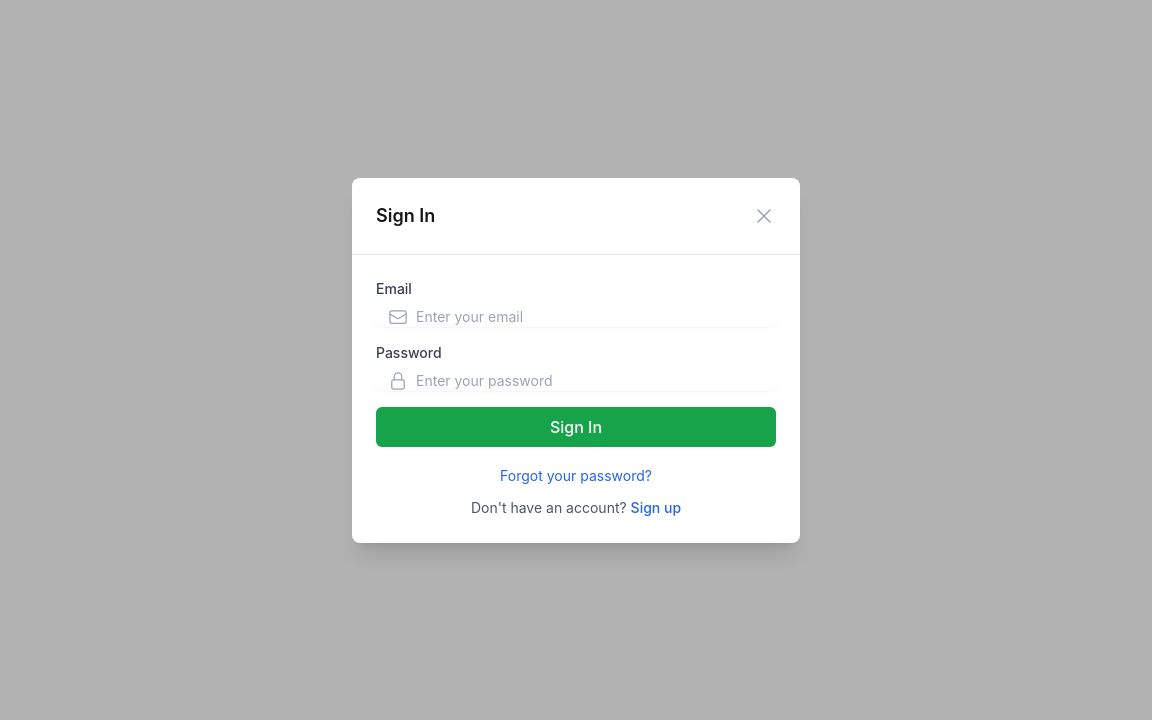
Test: AuthModal › switches to reset password mode
The image size is (1152, 720).
Click the button "Forgot your password?". click: (576, 476)
box: x1=500 y1=466 x2=652 y2=486
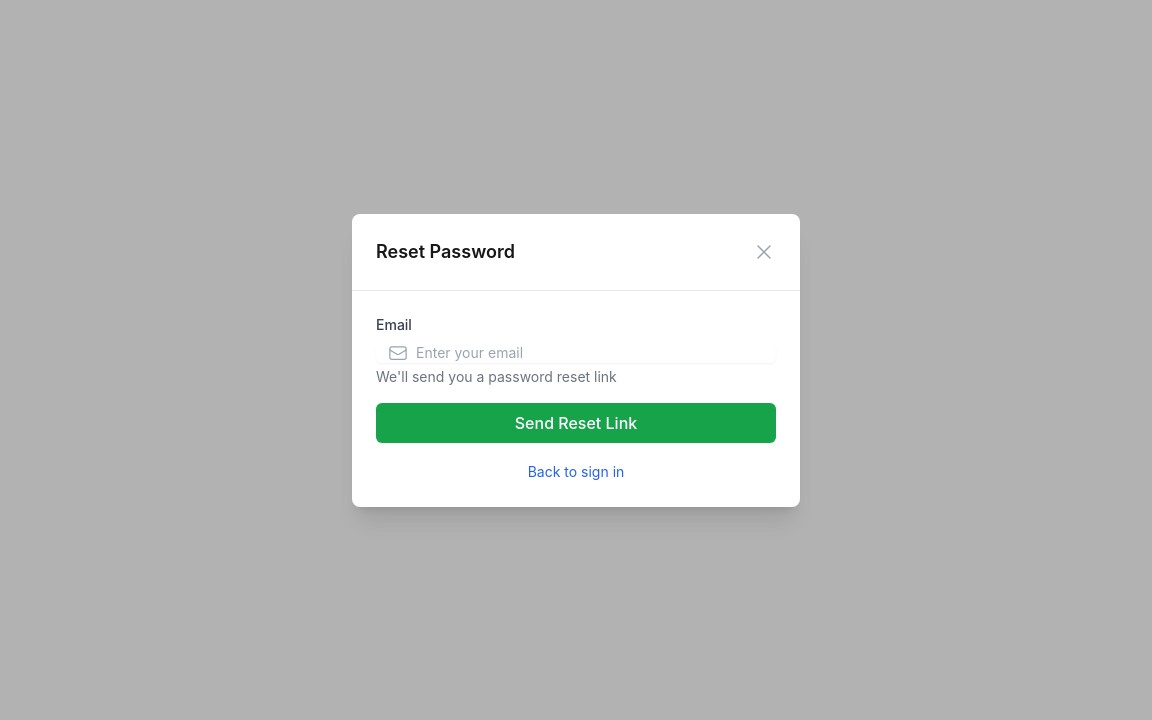
Check: the heading "Reset Password" is shown, box x1=376 y1=238 x2=515 y2=266
Check: the button "Send Reset Link" is shown, box x1=376 y1=402 x2=776 y2=442
